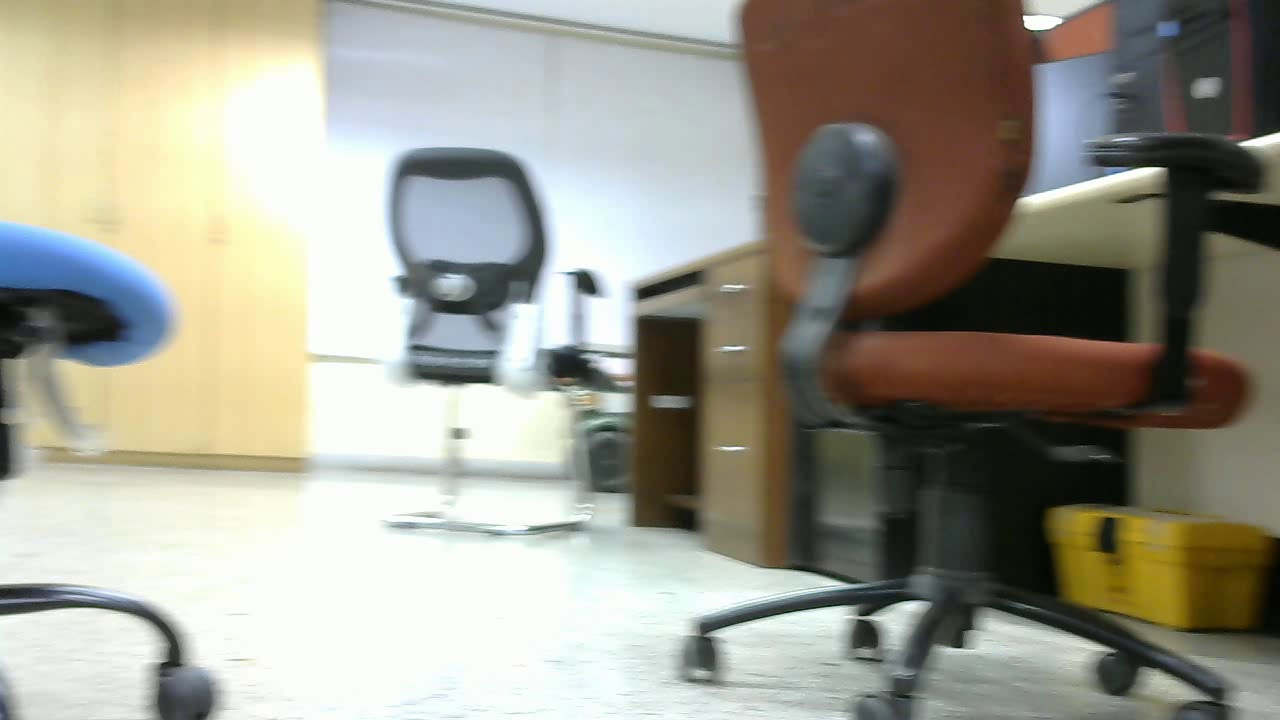chair: (674, 3, 1280, 720), (372, 134, 629, 558)
